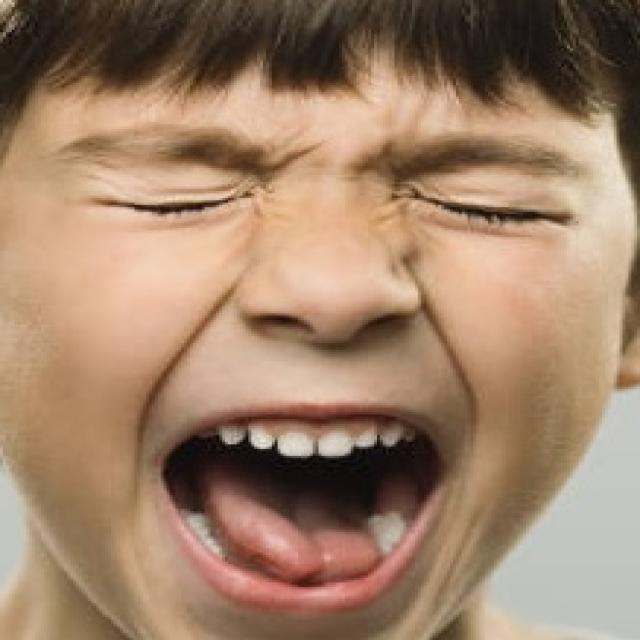Anxiety: (3, 59, 640, 638)
